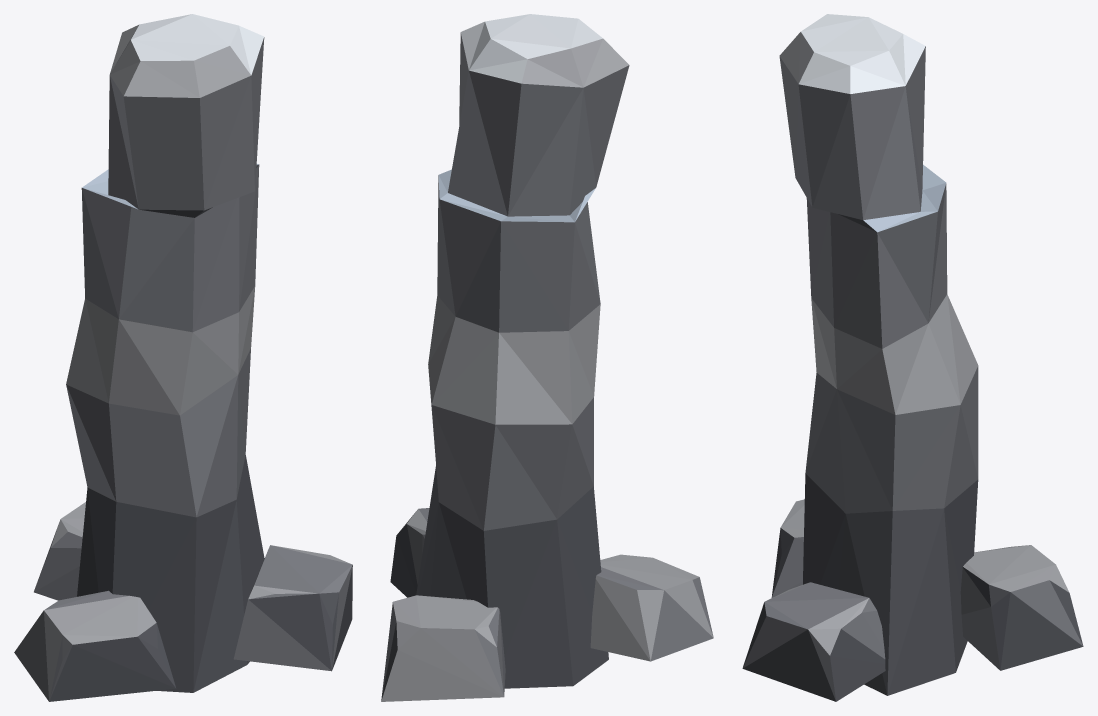
The model's file is rock_pillar.fbx.
3 views of the same model, side by side, from view 1: azimuth 30°, elevation 25°; view 2: azimuth 150°, elevation 25°; view 3: azimuth 270°, elevation 25° (orthographic). The views are drawn at different scales.
Parts seen in each view (by area): view 1: rock_pillar; view 2: rock_pillar; view 3: rock_pillar.
Part boxes in pixels (x1,y1,x2,y2): rock_pillar: (14,14,352,701); rock_pillar: (381,14,713,701); rock_pillar: (742,14,1083,701).
Bounding box in the file's own units: 3.26 × 6.18 × 3.15.
